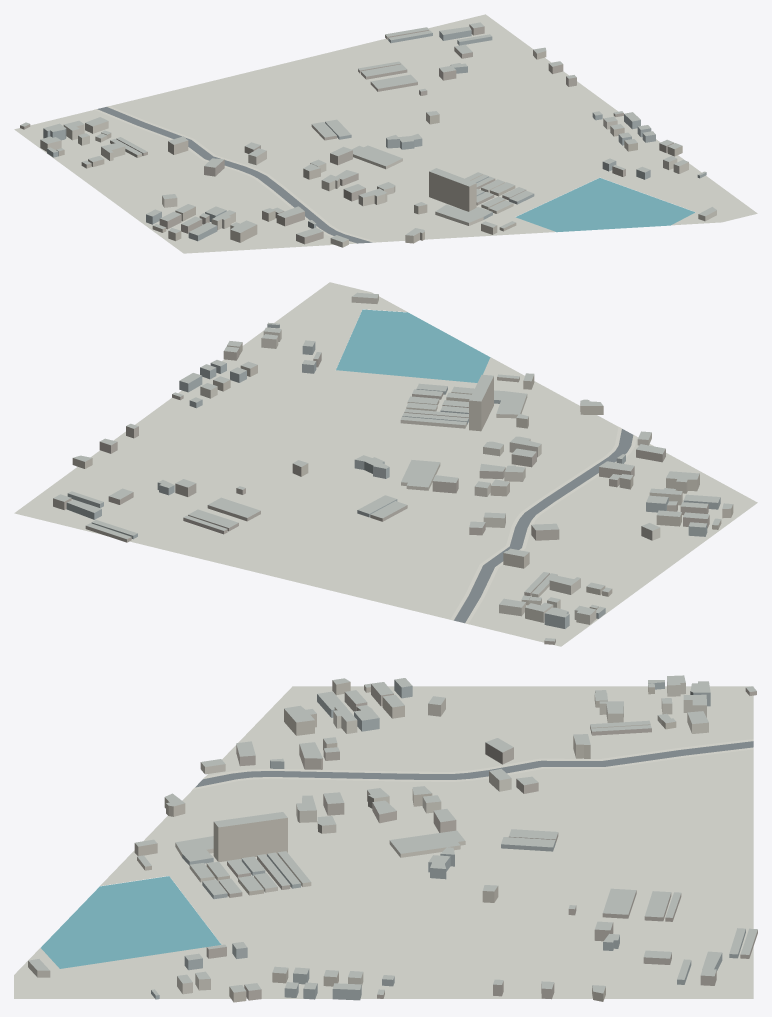
3 views of the same model, one above another, from view 1: azimuth 30°, elevation 25°; view 2: azimuth 150°, elevation 25°; view 3: azimuth 270°, elevation 25° (orthographic). The views are drawn at different scales.
Visible parts, largest first — view 1: city; view 2: city; view 3: city.
Boxes of the visible parts, left/top/right/bottom form: city: left=14, top=14, right=757, bottom=253; city: left=14, top=282, right=757, bottom=646; city: left=14, top=675, right=757, bottom=1002.
Bounding box in the file's own units: 506 × 26.18 × 503.
